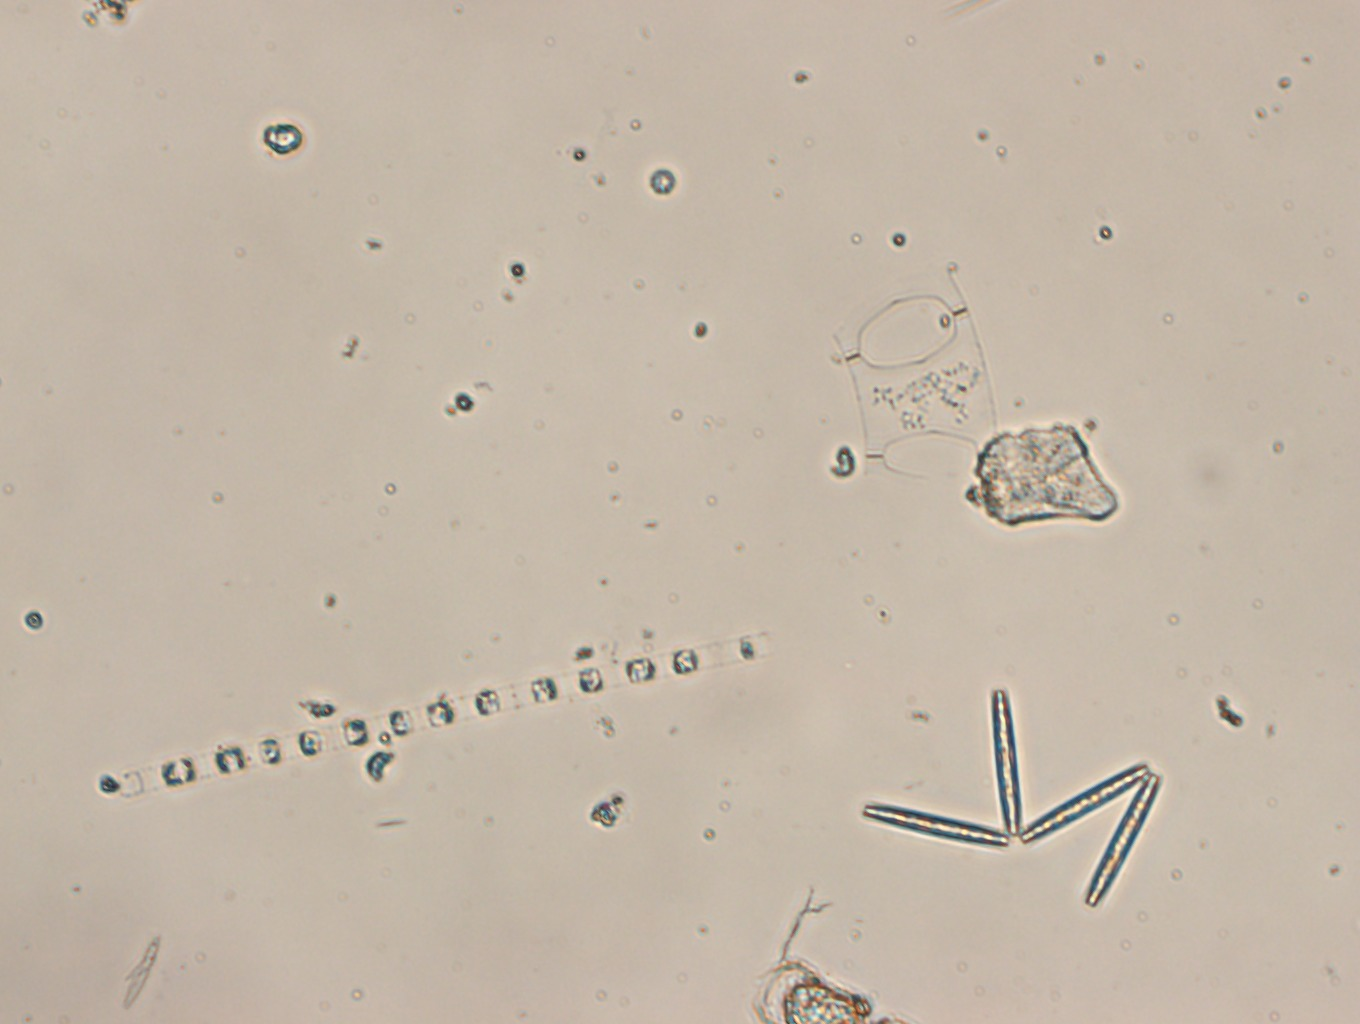eucampia: (829, 267, 999, 489)
skeletonema: (105, 631, 779, 802)
thalassionema nitzschioides: (861, 685, 1163, 908)
